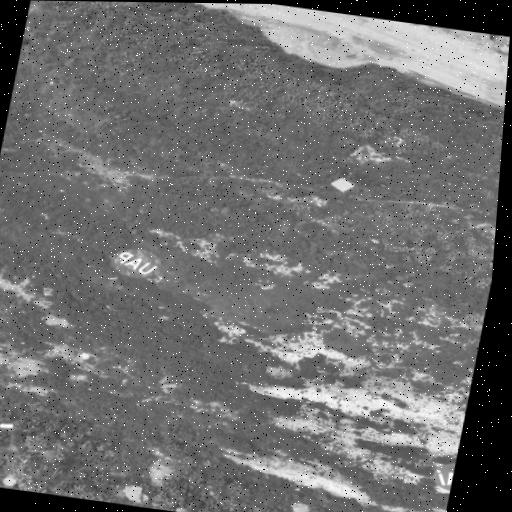uai: (431, 463, 456, 491)
uap: (110, 249, 159, 277)
